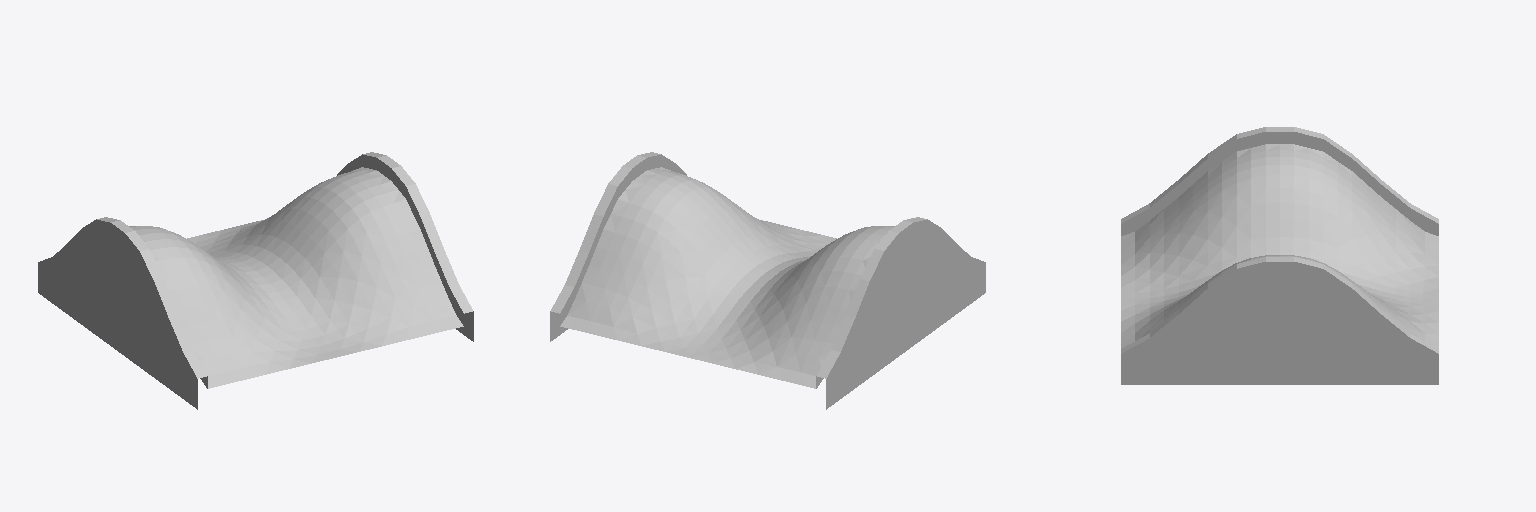
Rendered from doubleHumps_B_3x3.obj.
3 views of the same model, side by side, from view 1: azimuth 30°, elevation 25°; view 2: azimuth 150°, elevation 25°; view 3: azimuth 270°, elevation 25° (orthographic).
Parts seen in each view (by area): view 1: doubleHumps_B_3x3; view 2: doubleHumps_B_3x3; view 3: doubleHumps_B_3x3.
Boxes of the visible parts, x1=… form: doubleHumps_B_3x3: x1=38, y1=152, x2=473, y2=409; doubleHumps_B_3x3: x1=550, y1=152, x2=985, y2=409; doubleHumps_B_3x3: x1=1121, y1=127, x2=1438, y2=384.
Size of the model in its own units: 3 by 1.28 by 3.